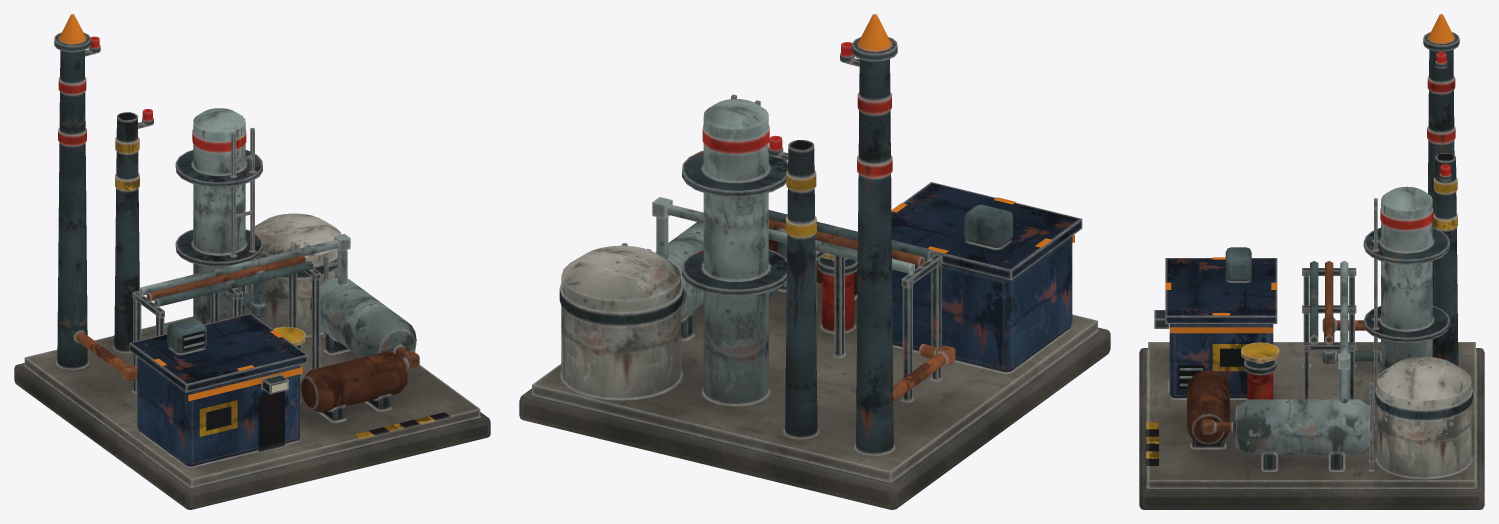
File: refinery.glb
3 views of the same model, side by side, from view 1: azimuth 30°, elevation 25°; view 2: azimuth 150°, elevation 25°; view 3: azimuth 270°, elevation 25° (orthographic). The views are drawn at different scales.
Visible parts, largest first — view 1: te_refinery; view 2: te_refinery; view 3: te_refinery.
Boxes of the visible parts, <box> form: te_refinery: <box>14,14,490,509</box>; te_refinery: <box>519,14,1110,509</box>; te_refinery: <box>1139,14,1484,509</box>.
Size of the model in its own units: 0.8 by 0.945 by 0.8.
1 material, 1 textured.
